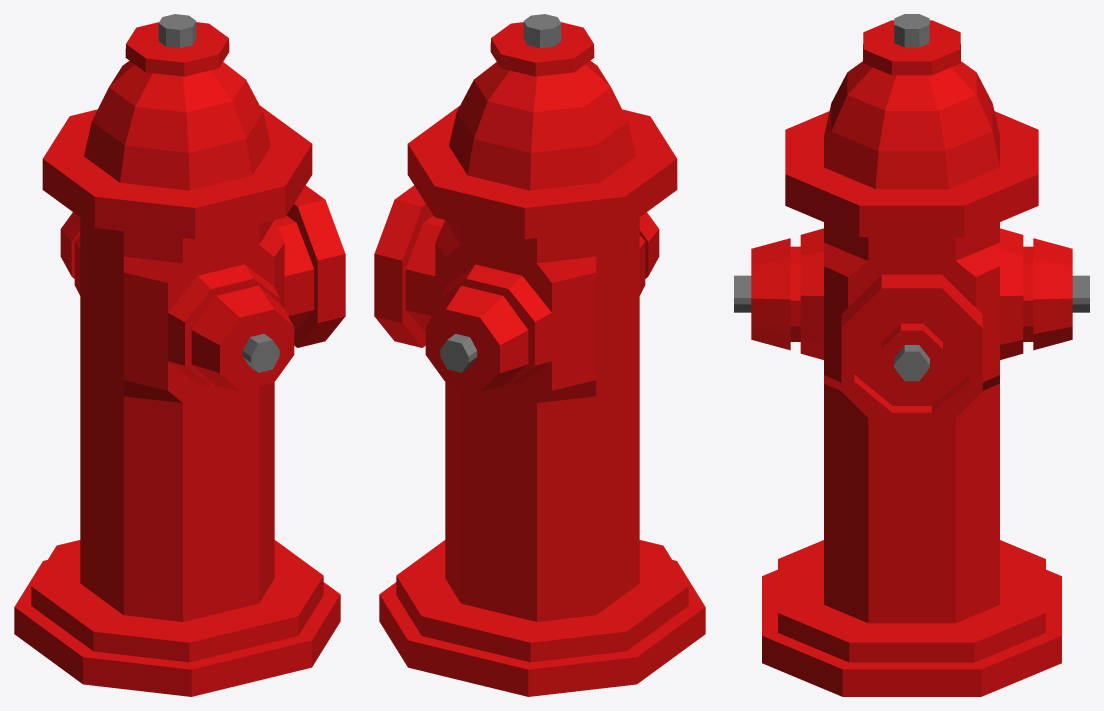
Rendered from fire_hydrant.fbx.
3 renders of one model, left to right at view 1: azimuth 30°, elevation 25°; view 2: azimuth 150°, elevation 25°; view 3: azimuth 270°, elevation 25°, orthographic.
Parts seen in each view (by area): view 1: FireHydrant; view 2: FireHydrant; view 3: FireHydrant.
Part boxes in pixels (box(x1,y1,x2,y2)): FireHydrant: box(14, 14, 345, 696); FireHydrant: box(374, 14, 705, 696); FireHydrant: box(734, 14, 1089, 696).
Size of the model in its own units: 61.17 by 129 by 67.8.
